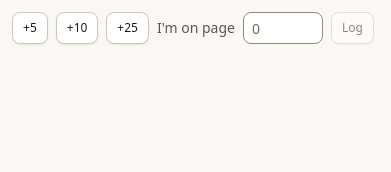
Test: QuickLog › shows an error when logging fails
Click the button named "Log 5 more pages of Deep Work" at (30, 28), box [12, 12, 48, 44]
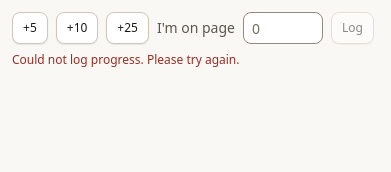
Result: the message shows "Could not log progress" at [12, 51, 240, 68]
